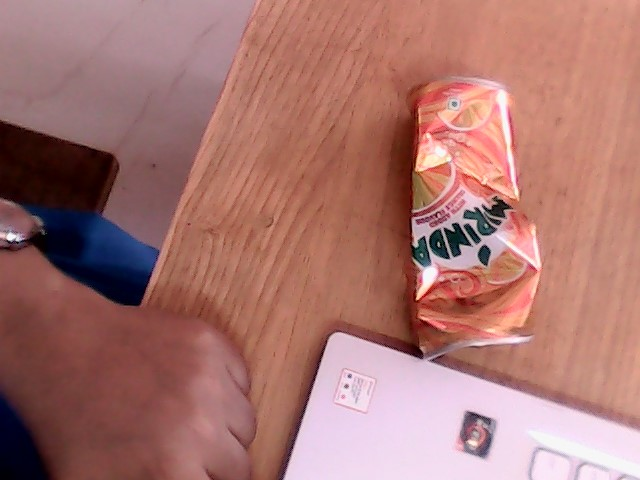Metal: (410, 80, 530, 342)
